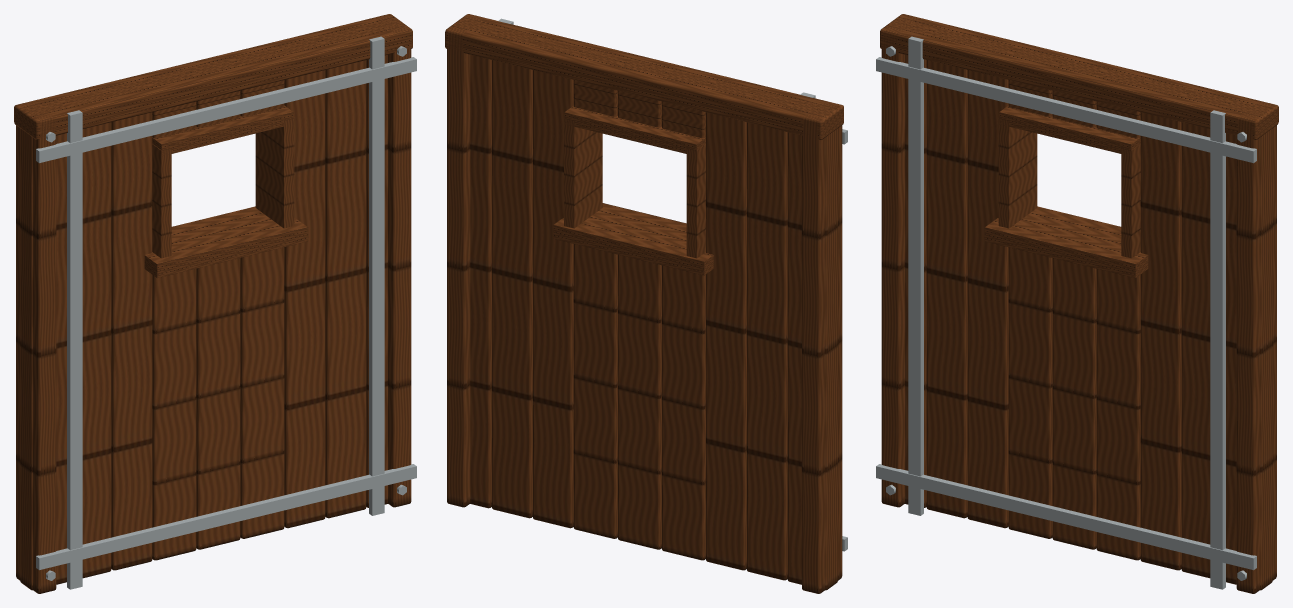
File: modular-survival-base-builder-wall-service-opening-rei-a710ca0e__24294.glb
The picture shows the model from 3 angles, left to right: view 1: azimuth 30°, elevation 25°; view 2: azimuth 150°, elevation 25°; view 3: azimuth 330°, elevation 25°; orthographic projection.
Visible parts, largest first — view 1: wall-service-opening-reinforced; view 2: wall-service-opening-reinforced; view 3: wall-service-opening-reinforced.
Boxes of the visible parts, left/top/right/bottom form: wall-service-opening-reinforced: left=14, top=14, right=416, bottom=593; wall-service-opening-reinforced: left=445, top=14, right=847, bottom=593; wall-service-opening-reinforced: left=876, top=14, right=1278, bottom=593.
Bounding box in the file's own units: 2 × 2.4 × 0.3199.
Materials: 2 (1 with a texture image).
